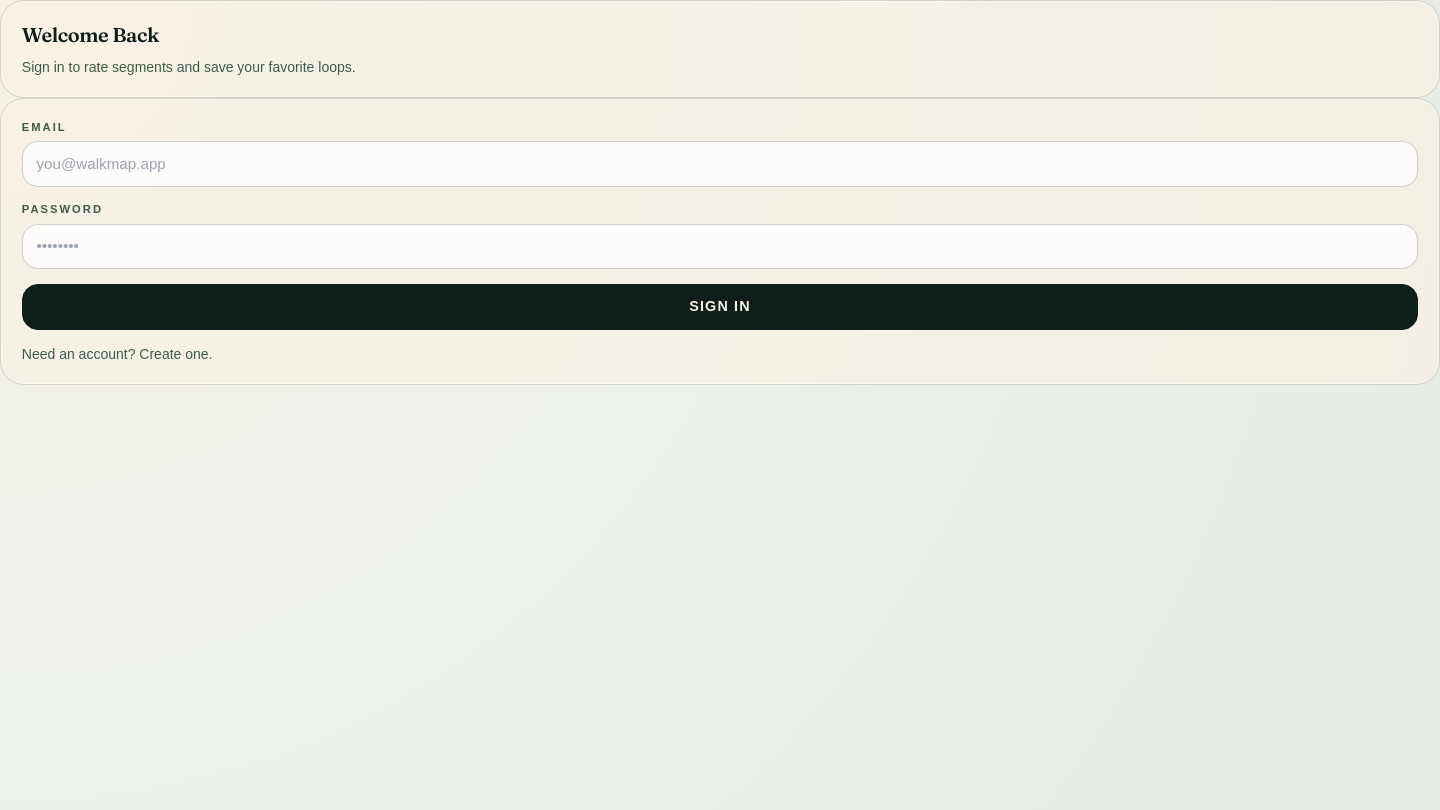
auth panels › shows backend login errors
Type "user@example.com" into the field labelled "Email". click: (720, 164)
box: top-left (22, 141), bottom-right (1418, 187)
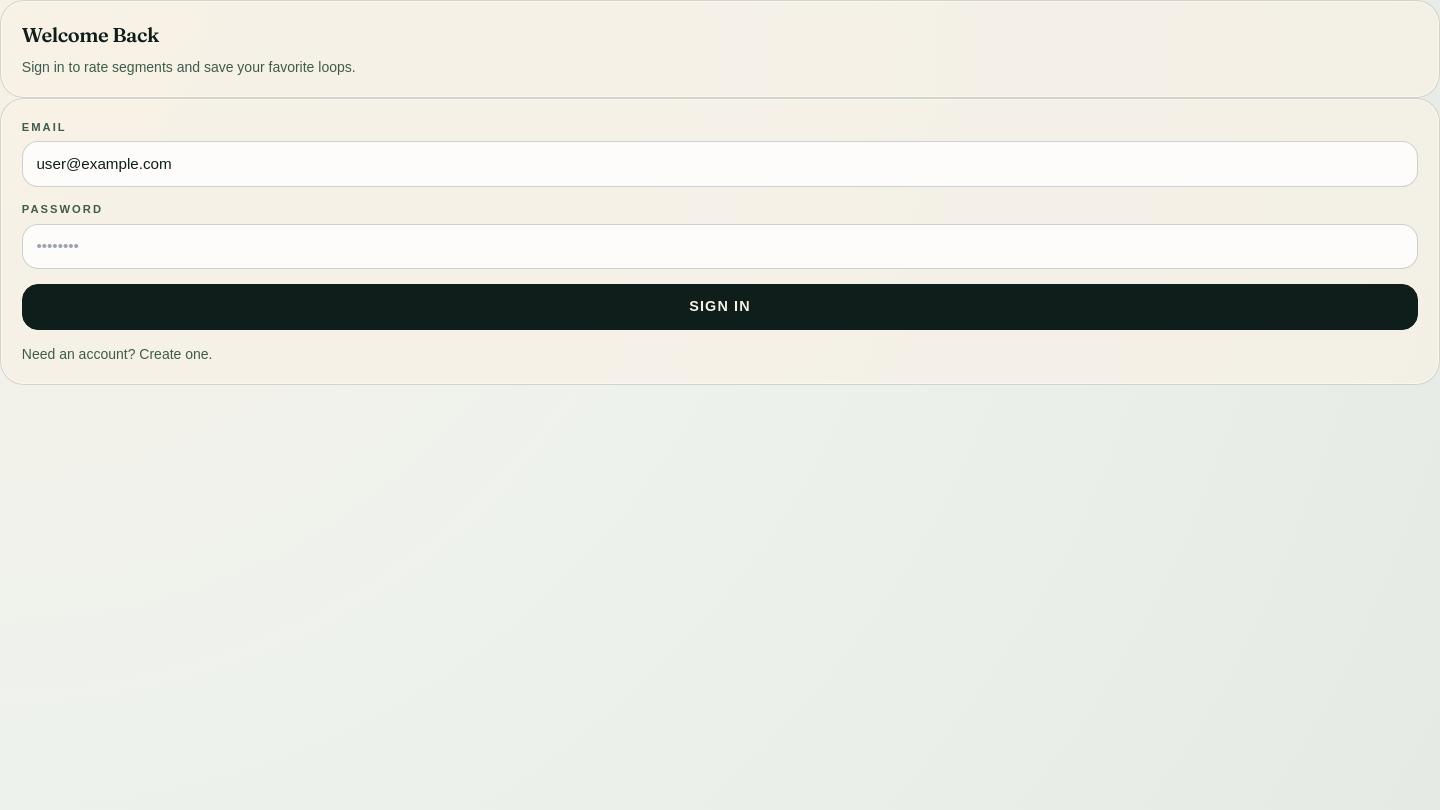
Type "wrongpass123" into the password field labelled "Password". click: (720, 246)
box: top-left (22, 224), bottom-right (1418, 269)
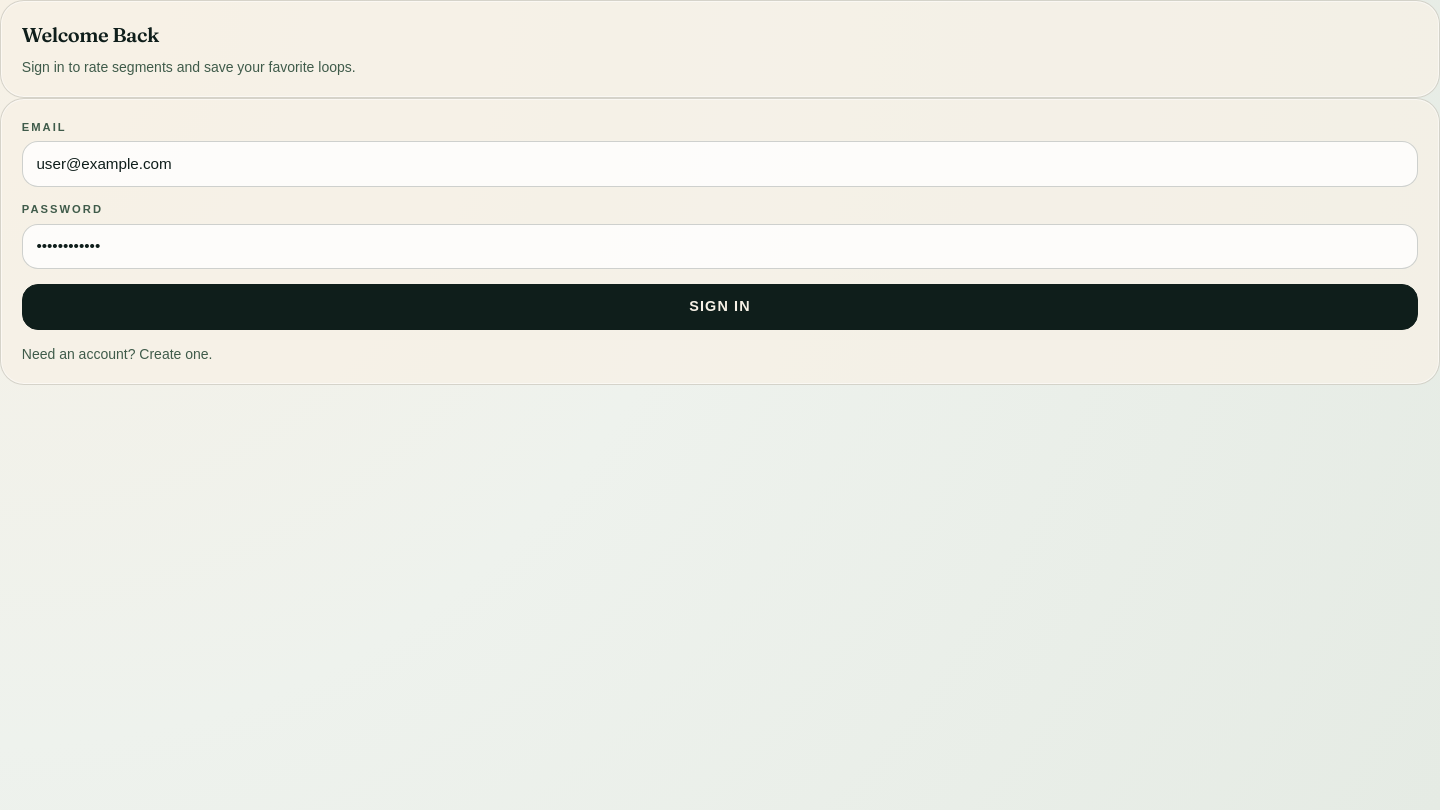
Click the button "Sign In". click: (720, 307)
box: top-left (22, 284), bottom-right (1418, 330)
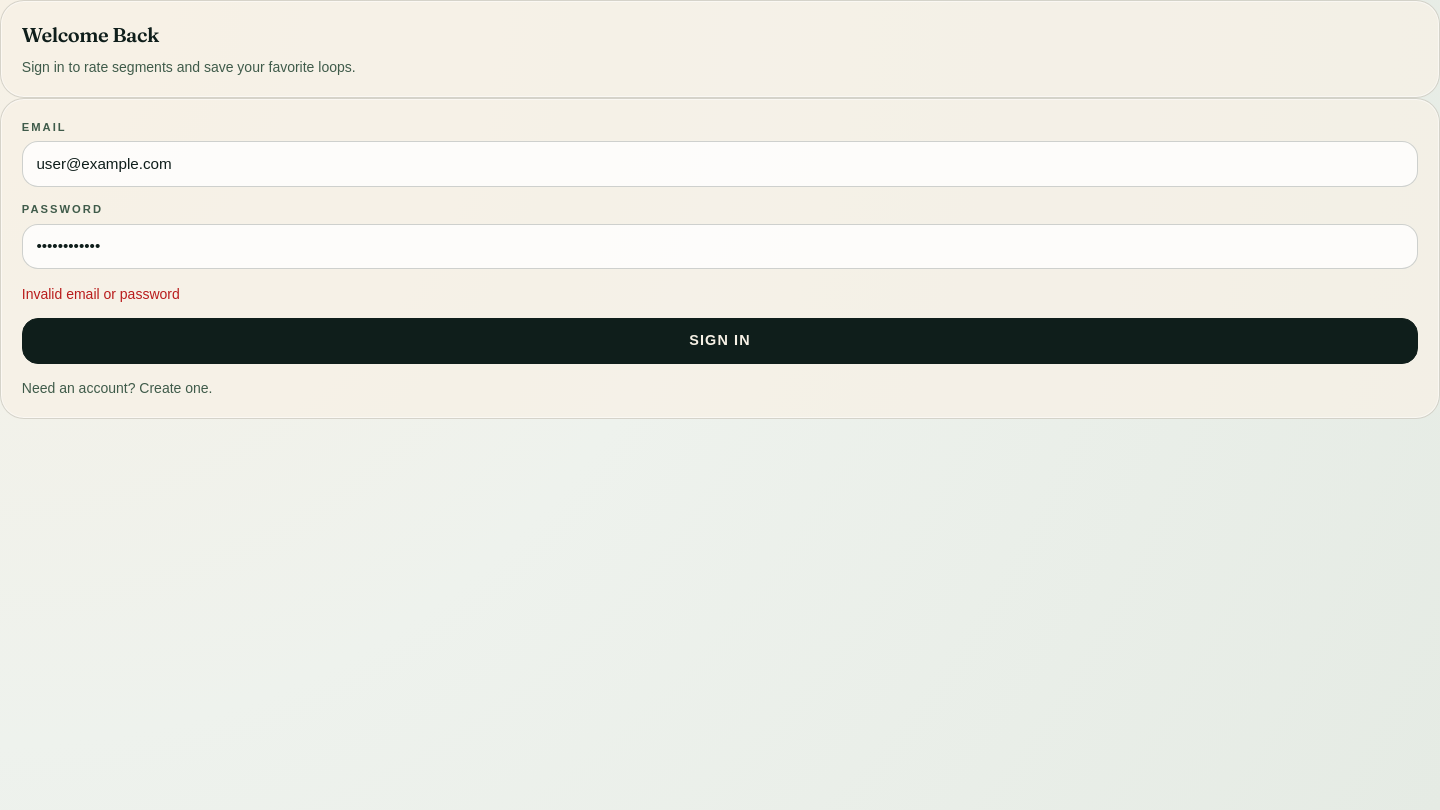
Now the message reads "Invalid email or password", box top-left (22, 286), bottom-right (180, 302)
